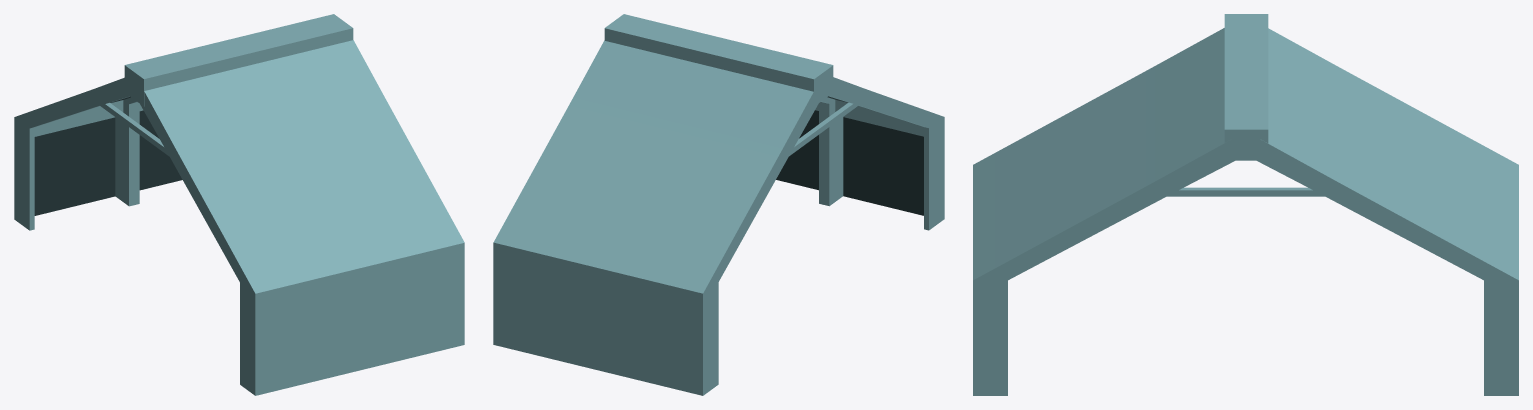
File: SM A Roof 6x3m.fbx
The picture shows the model from 3 angles, left to right: view 1: azimuth 30°, elevation 25°; view 2: azimuth 150°, elevation 25°; view 3: azimuth 270°, elevation 25°; orthographic projection. The views are drawn at different scales.
Visible parts, largest first — view 1: SM_Attic_Roof1, SM_Beam; view 2: SM_Attic_Roof1, SM_Beam; view 3: SM_Attic_Roof1, SM_Beam.
Part boxes in pixels (left/top/right/bottom): SM_Attic_Roof1: left=14, top=40, right=464, bottom=395; SM_Beam: left=124, top=14, right=353, bottom=106; SM_Attic_Roof1: left=493, top=40, right=944, bottom=395; SM_Beam: left=604, top=14, right=833, bottom=106; SM_Attic_Roof1: left=973, top=28, right=1518, bottom=395; SM_Beam: left=1224, top=14, right=1268, bottom=160.
Bounding box in the file's own units: 300 × 322 × 599.
